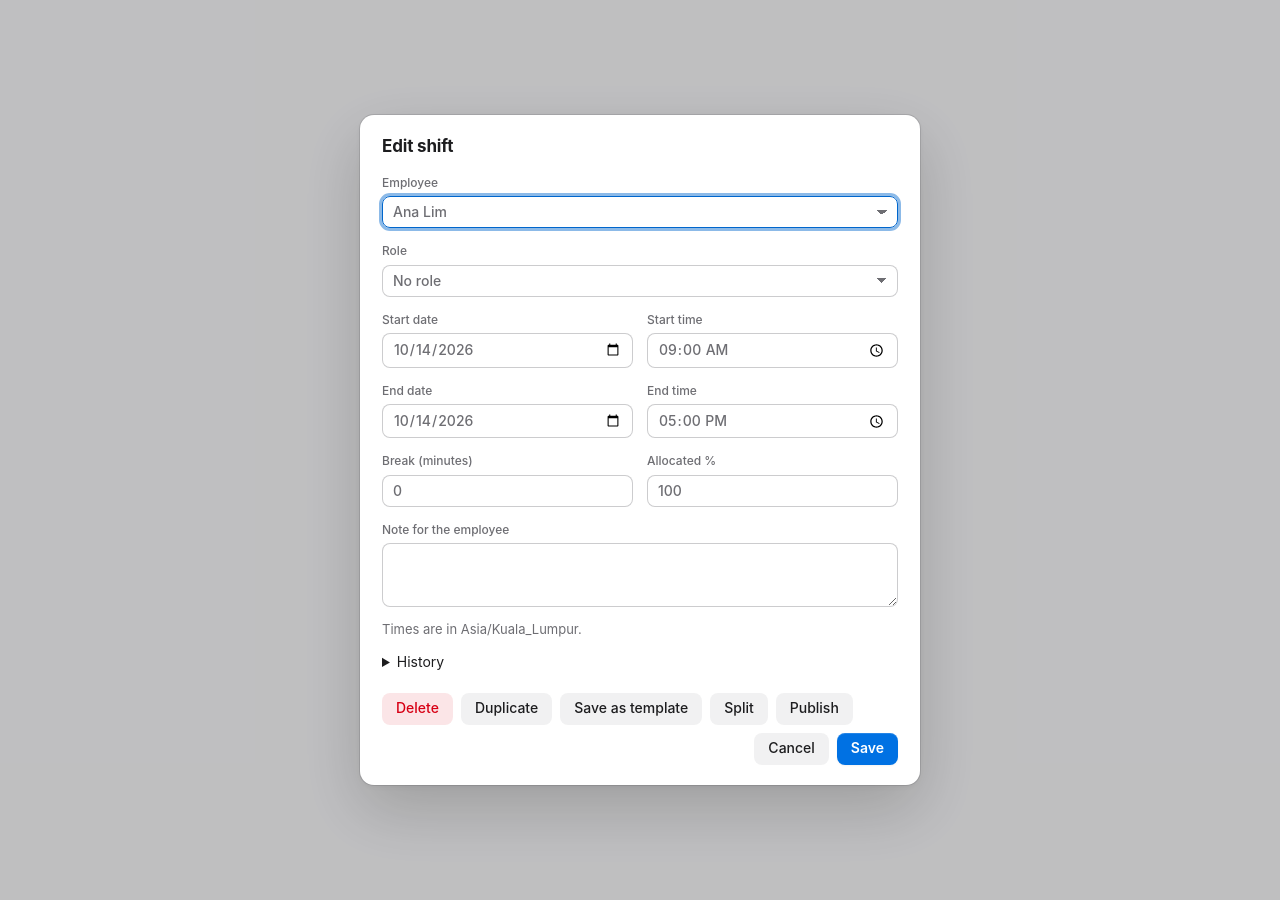
it: ShiftDialog › publishes one draft shift after confirming (FR-PUB-01)
Click the button "Publish" at (814, 708), box [776,692,853,724]
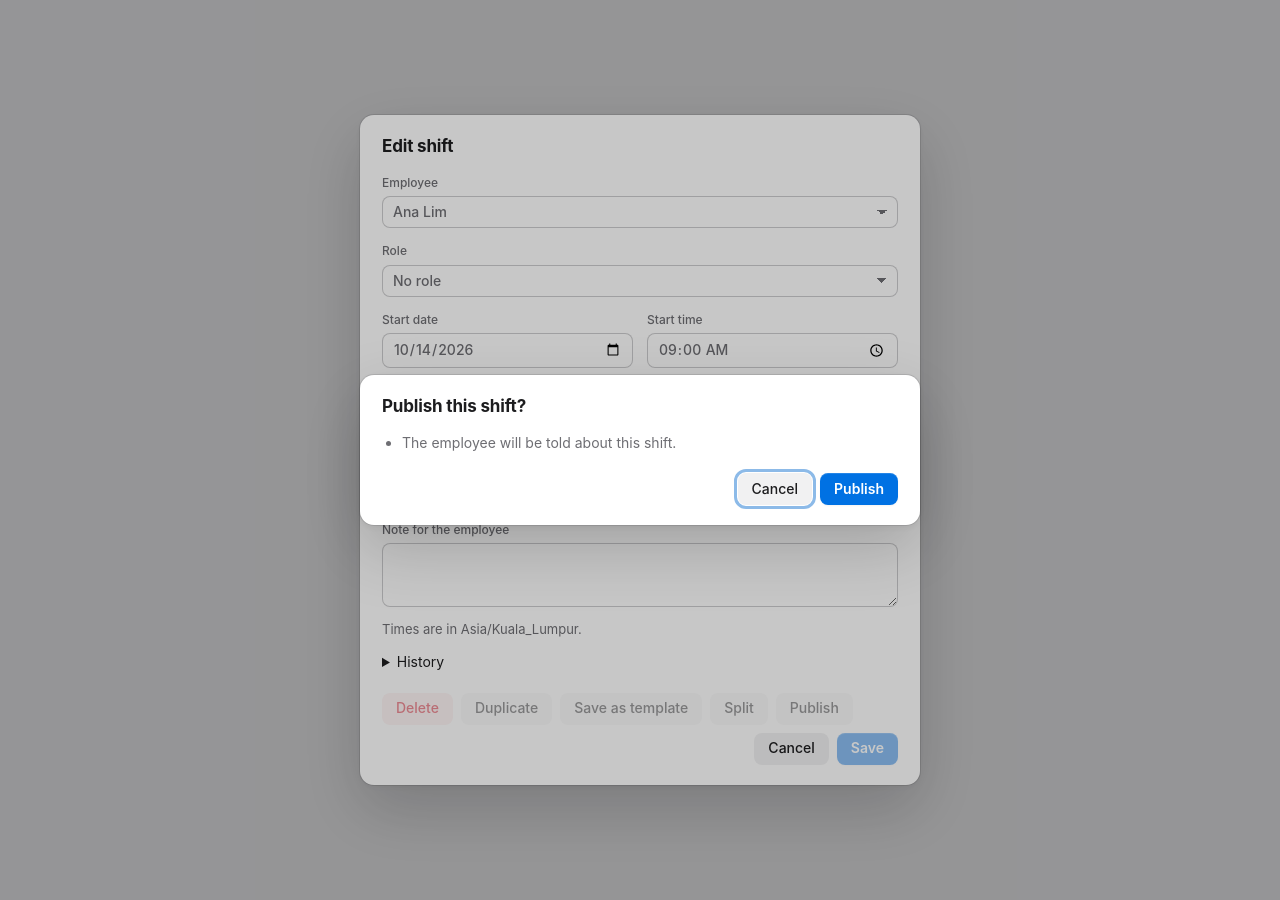
Click the button "Publish" at (859, 489), box [820,473,898,505]
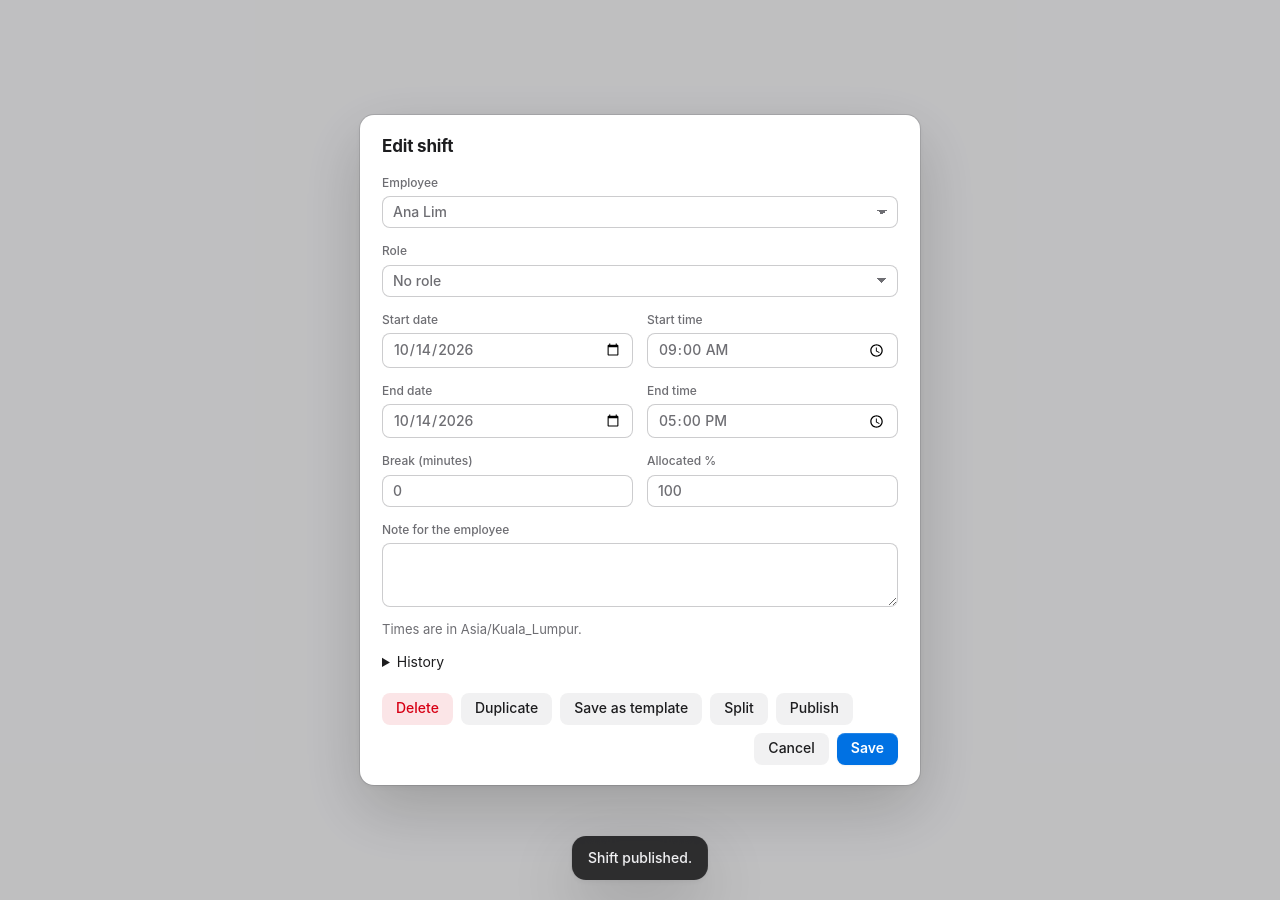
Expected: the text "Shift published." is shown, [588,848,692,868]
